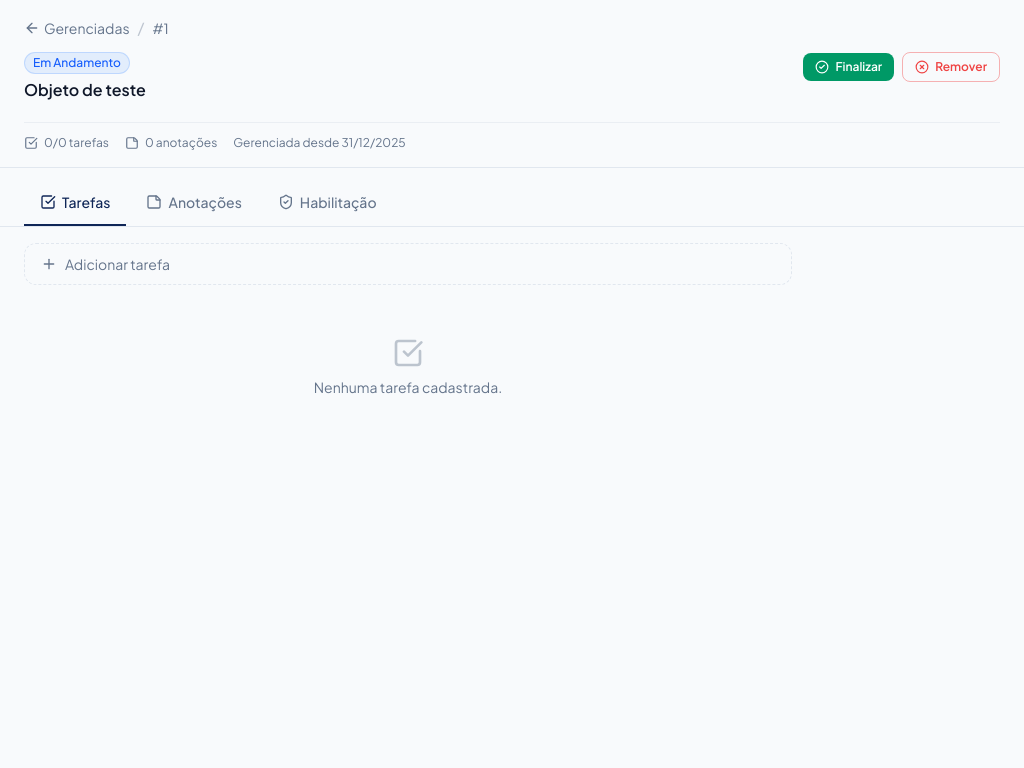
GerenciamentoDetalhe – updateGer onError toast › shows 'Sessão expirada' toast when PATCH /api/gerenciamento/:id returns 401
This screenshot has width=1024, height=768.
# Open the modal
What coordinates should you click on to do the following:
click the button "Finalizar"
I would click on:
 (849, 67)
Its box is [804,53,894,81].
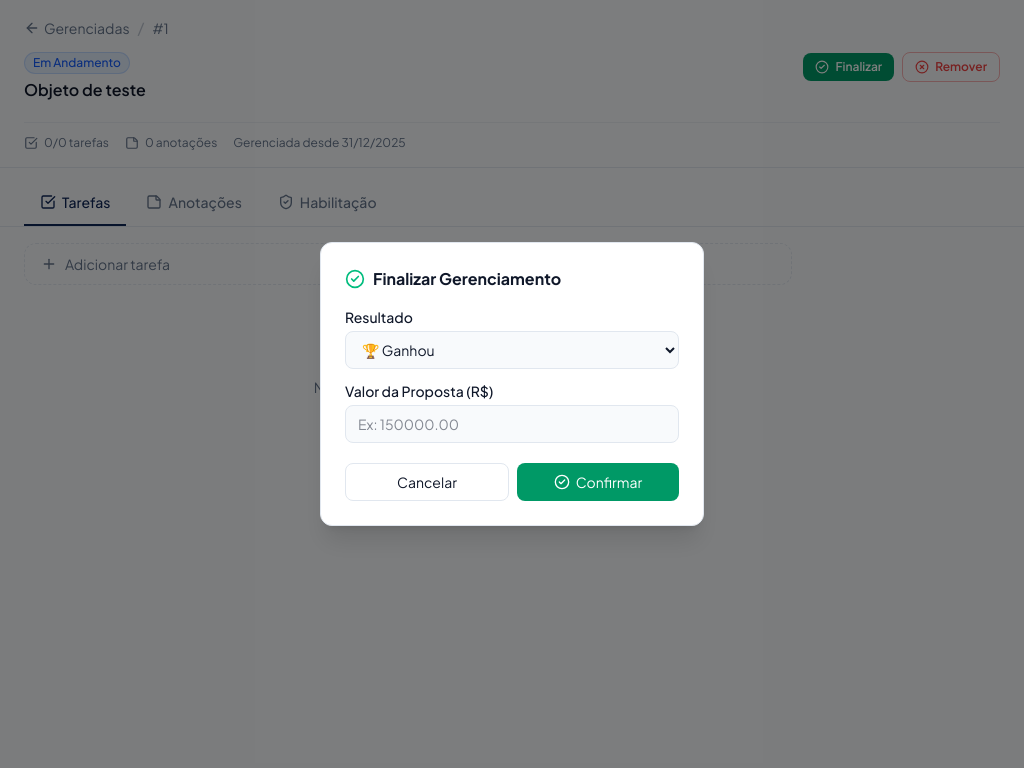
expect the heading "Finalizar Gerenciamento" is shown: met, box [345,268,561,289]
# Confirm — fires updateGer.mutate, which receives a 401
What coordinates should you click on to do the following:
click the button "Confirmar"
I would click on:
 (598, 482)
Its box is [517,463,679,501].
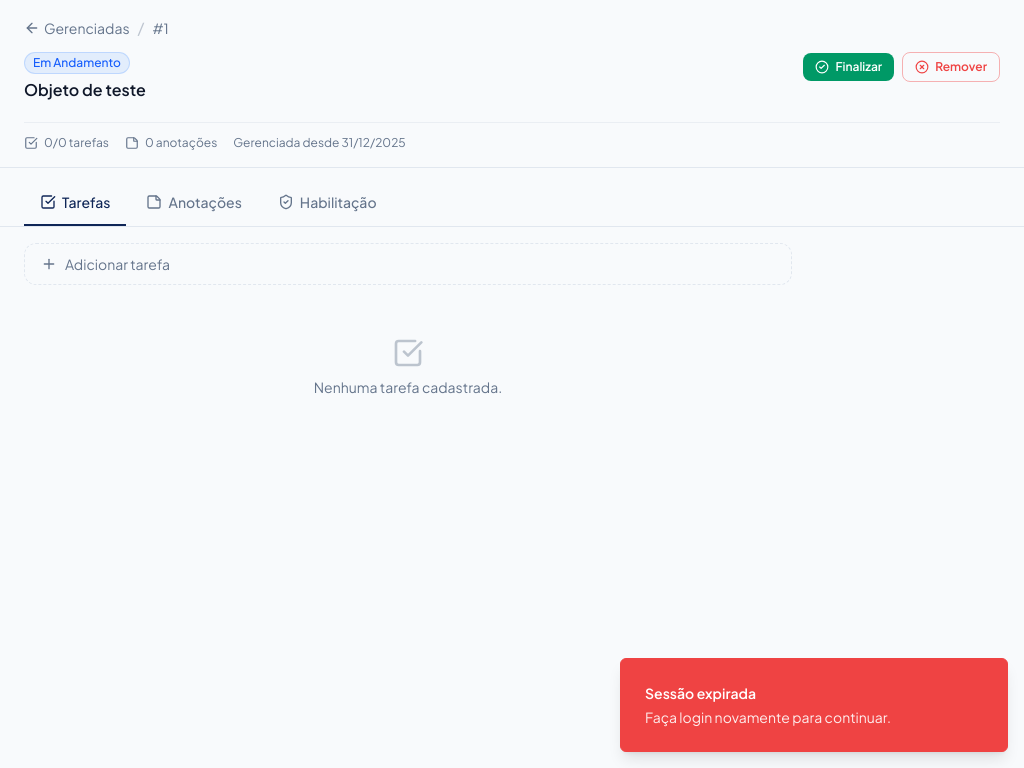
expect the text "Sessão expirada" is shown: met, box [645,684,756,702]
expect the text "Faça login novamente para continuar." is shown: met, box [645,707,891,727]
